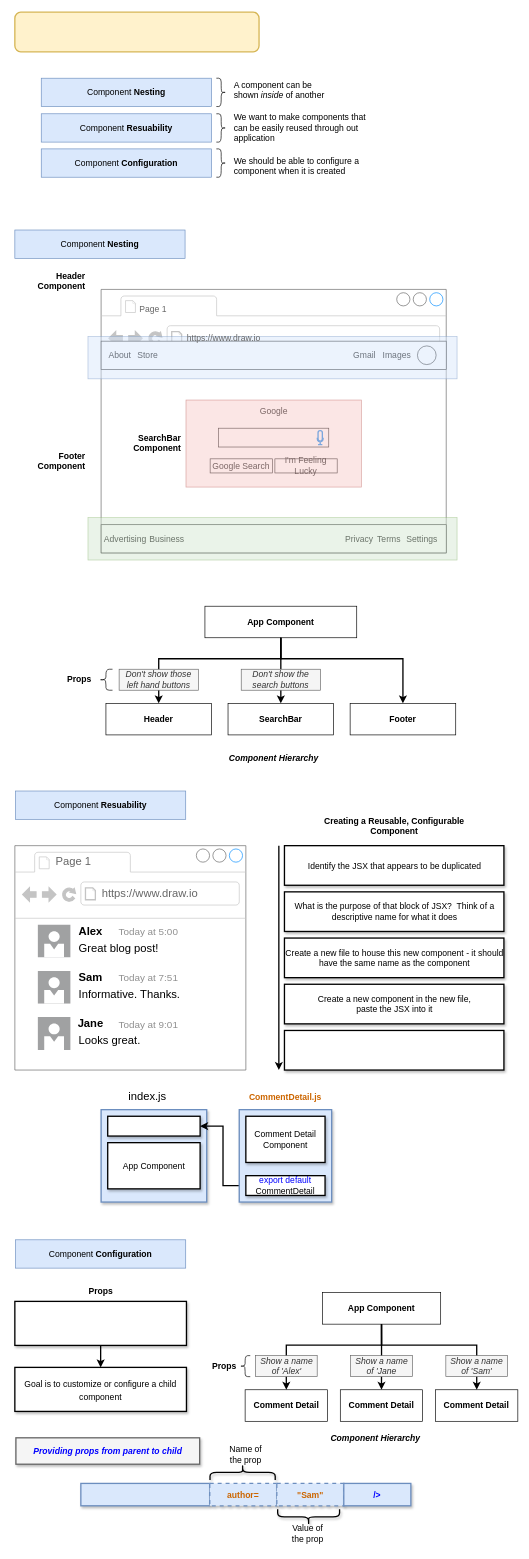
Image size: 529x1559. Some labels were removed from this diagram. The shapes that lost their labels are listed below. From the top down, each one's centre as x and y in pixels, then its label:
At pixel 136 31: "React Components".
At pixel 394 1051: "Make the new component configurable by using React's 'props' system".
At pixel 154 1127: "import CommentDetail from './CommentDetail'".
At pixel 101 1324: "System for passing data from a parent component to a child component".
At pixel 145 1495: "<CommentDetail".
